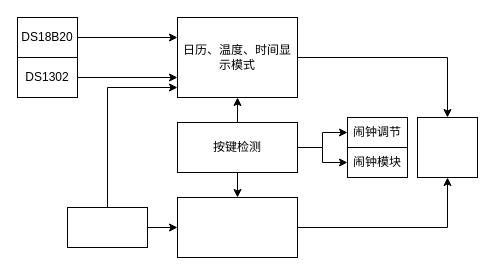
This 495x275 diagram has some shape labels left out. Here are the shapes that lost their labels. From the top down, the box of each, then its label:
(416, 116, 478, 178): LCD1602
(66, 206, 148, 248): T0 1ms中断
(176, 196, 298, 258): 秒表模式
